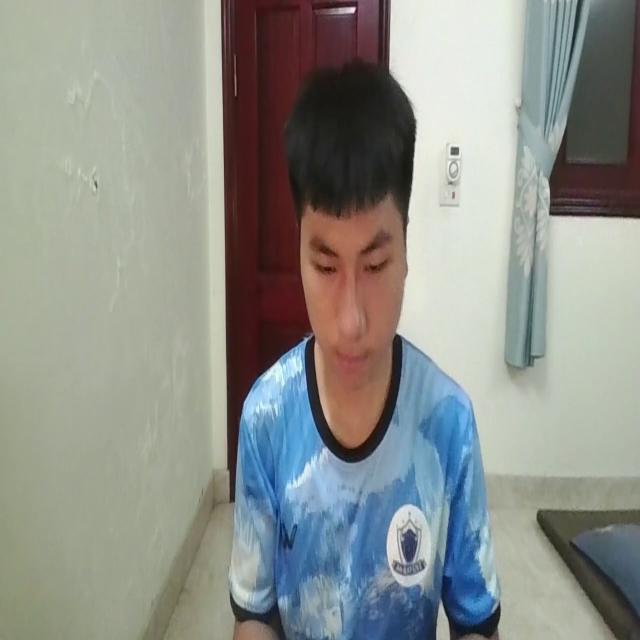student: (228, 50, 503, 640)
